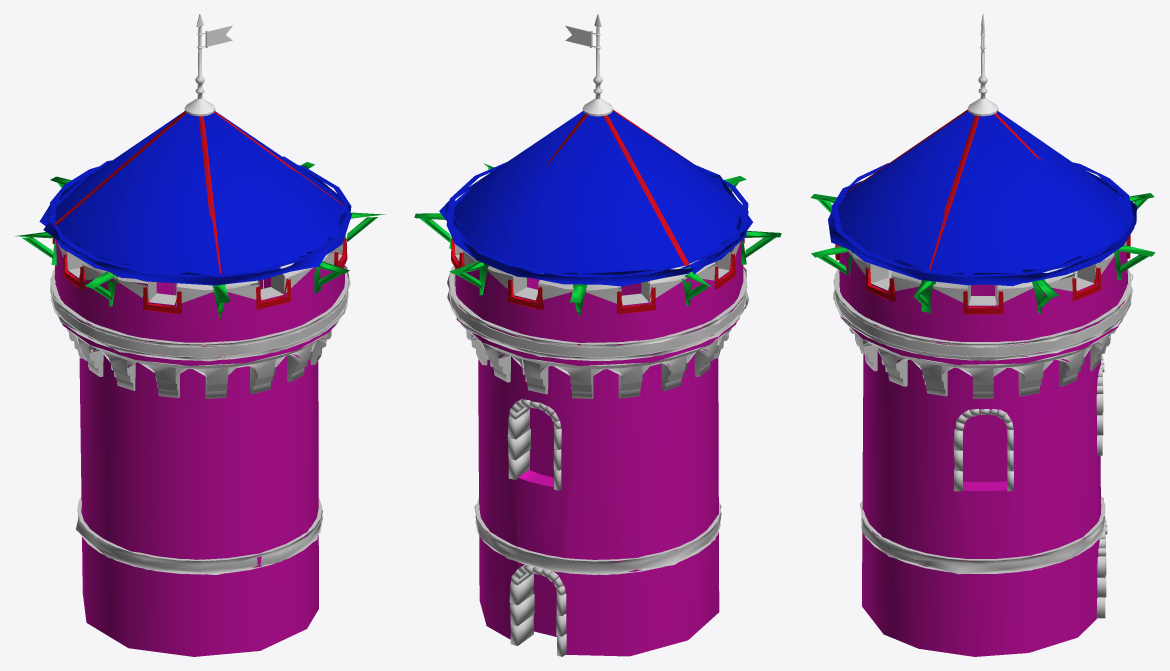
The model's file is Tower_3 (2).fbx.
The picture shows the model from 3 angles, left to right: view 1: azimuth 30°, elevation 25°; view 2: azimuth 150°, elevation 25°; view 3: azimuth 270°, elevation 25°; orthographic projection.
Parts seen in each view (by area): view 1: Tower_1.004, Group_4.010, Group_4.011; view 2: Tower_1.004, Group_4.010, Group_4.011; view 3: Tower_1.004, Group_4.010, Group_4.011.
Boxes of the visible parts, <box> form: Tower_1.004: <box>50,238,350,656</box>; Group_4.010: <box>15,111,385,318</box>; Group_4.011: <box>184,14,232,116</box>; Tower_1.004: <box>447,238,749,656</box>; Group_4.010: <box>414,110,781,318</box>; Group_4.011: <box>565,14,613,116</box>; Tower_1.004: <box>833,234,1133,656</box>; Group_4.010: <box>810,109,1155,314</box>; Group_4.011: <box>967,14,998,116</box>.
Bounding box in the file's own units: 942 × 1774 × 938.
